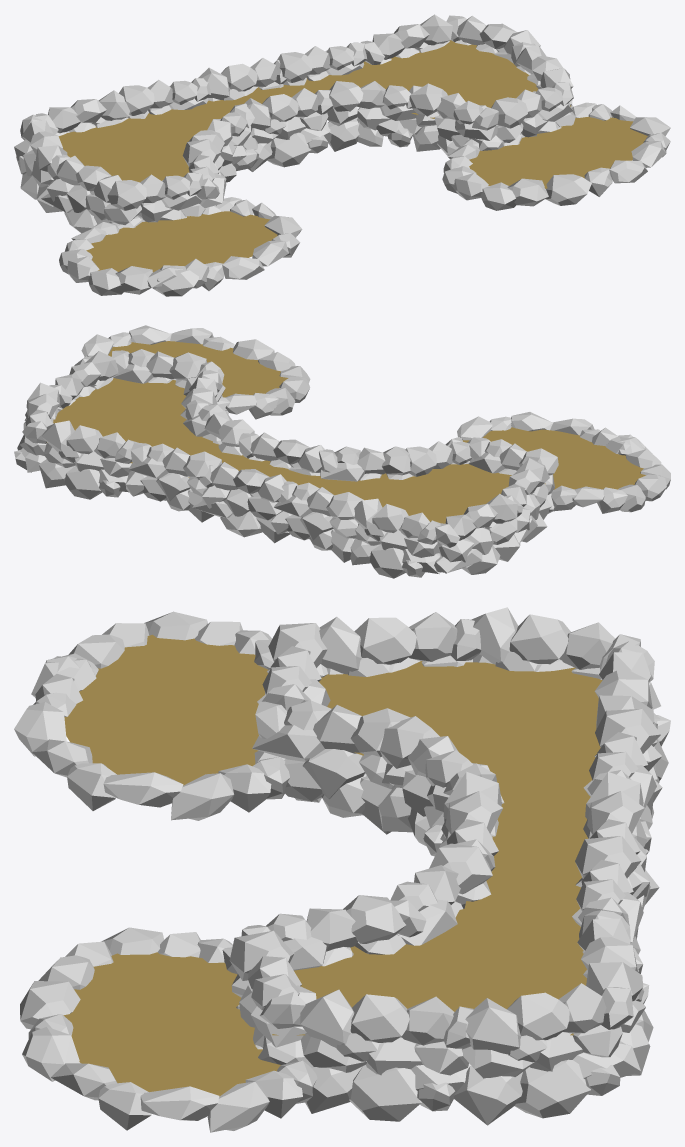
3 views of the same model, one above another, from view 1: azimuth 30°, elevation 25°; view 2: azimuth 150°, elevation 25°; view 3: azimuth 270°, elevation 25° (orthographic). The views are drawn at different scales.
Parts seen in each view (by area): view 1: SM_B_14; view 2: SM_B_14; view 3: SM_B_14.
Boxes of the visible parts, <box> form: SM_B_14: <box>14,14,670,296</box>; SM_B_14: <box>14,325,670,578</box>; SM_B_14: <box>14,607,670,1132</box>.
Size of the model in its own units: 953 by 104 by 533.
